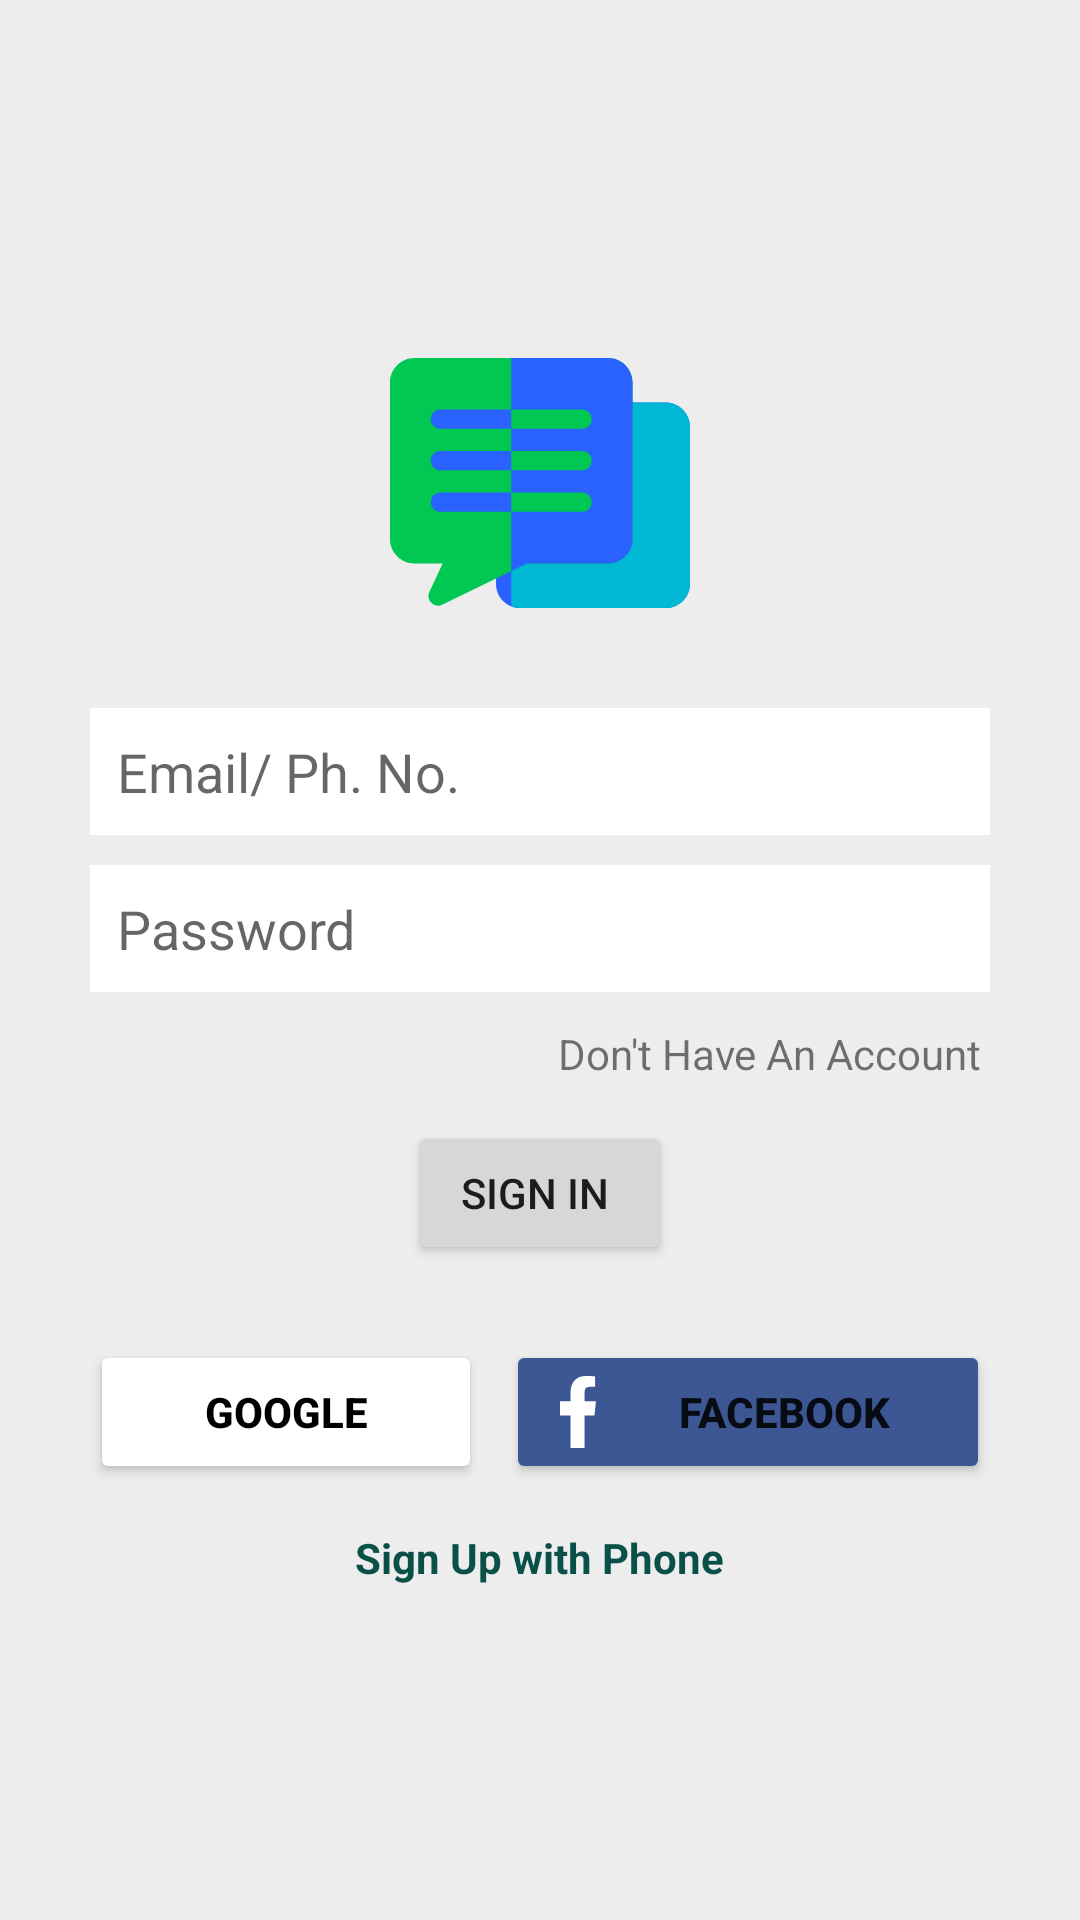

Screen size 1080px x 1920px. Icon name, then its box in pixels as (x1,y1,x2,y2):
chatting: (390,358,690,608)
